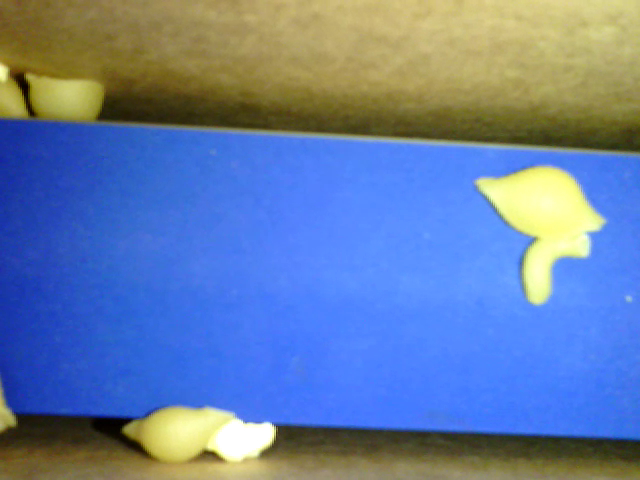elbow: (522, 231, 594, 308)
shell: (475, 161, 608, 239), (121, 403, 238, 466), (25, 69, 106, 126)
